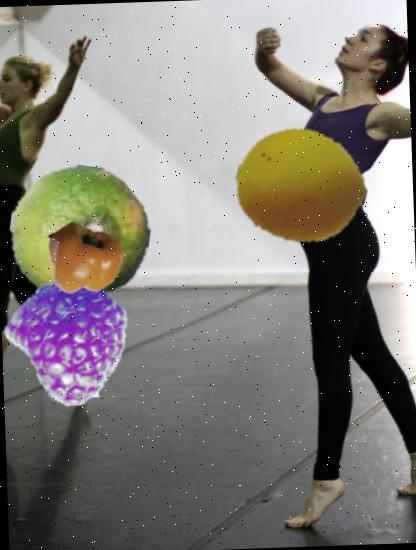Limes: (7, 163, 152, 308)
Peach: (234, 118, 369, 252)
Pepper: (43, 217, 125, 299)
Raspberry: (8, 276, 135, 403)
